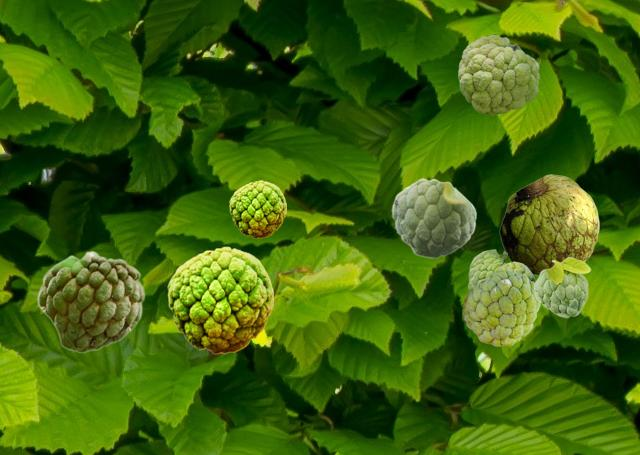atis: (167, 246, 272, 353), (36, 250, 144, 352), (499, 174, 598, 275), (391, 178, 476, 257), (458, 35, 538, 114), (462, 270, 539, 345), (533, 256, 590, 317), (229, 180, 285, 237), (468, 249, 535, 289)
